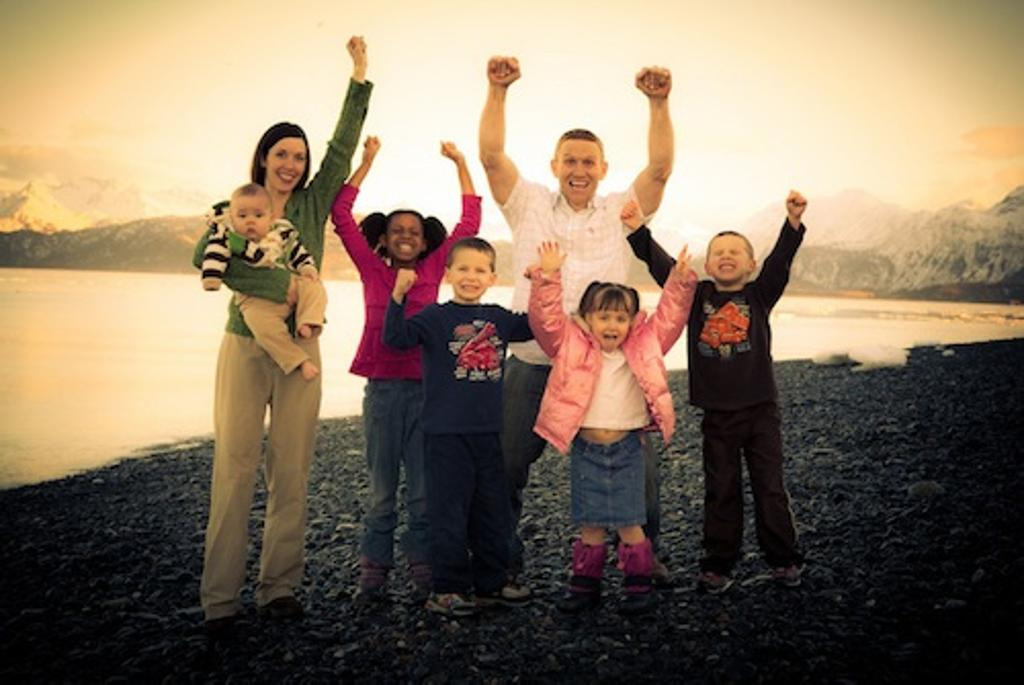face: (558, 140, 599, 201), (268, 139, 305, 192), (592, 298, 629, 349), (451, 250, 489, 299), (709, 234, 748, 281), (387, 213, 422, 261), (232, 196, 269, 238)
